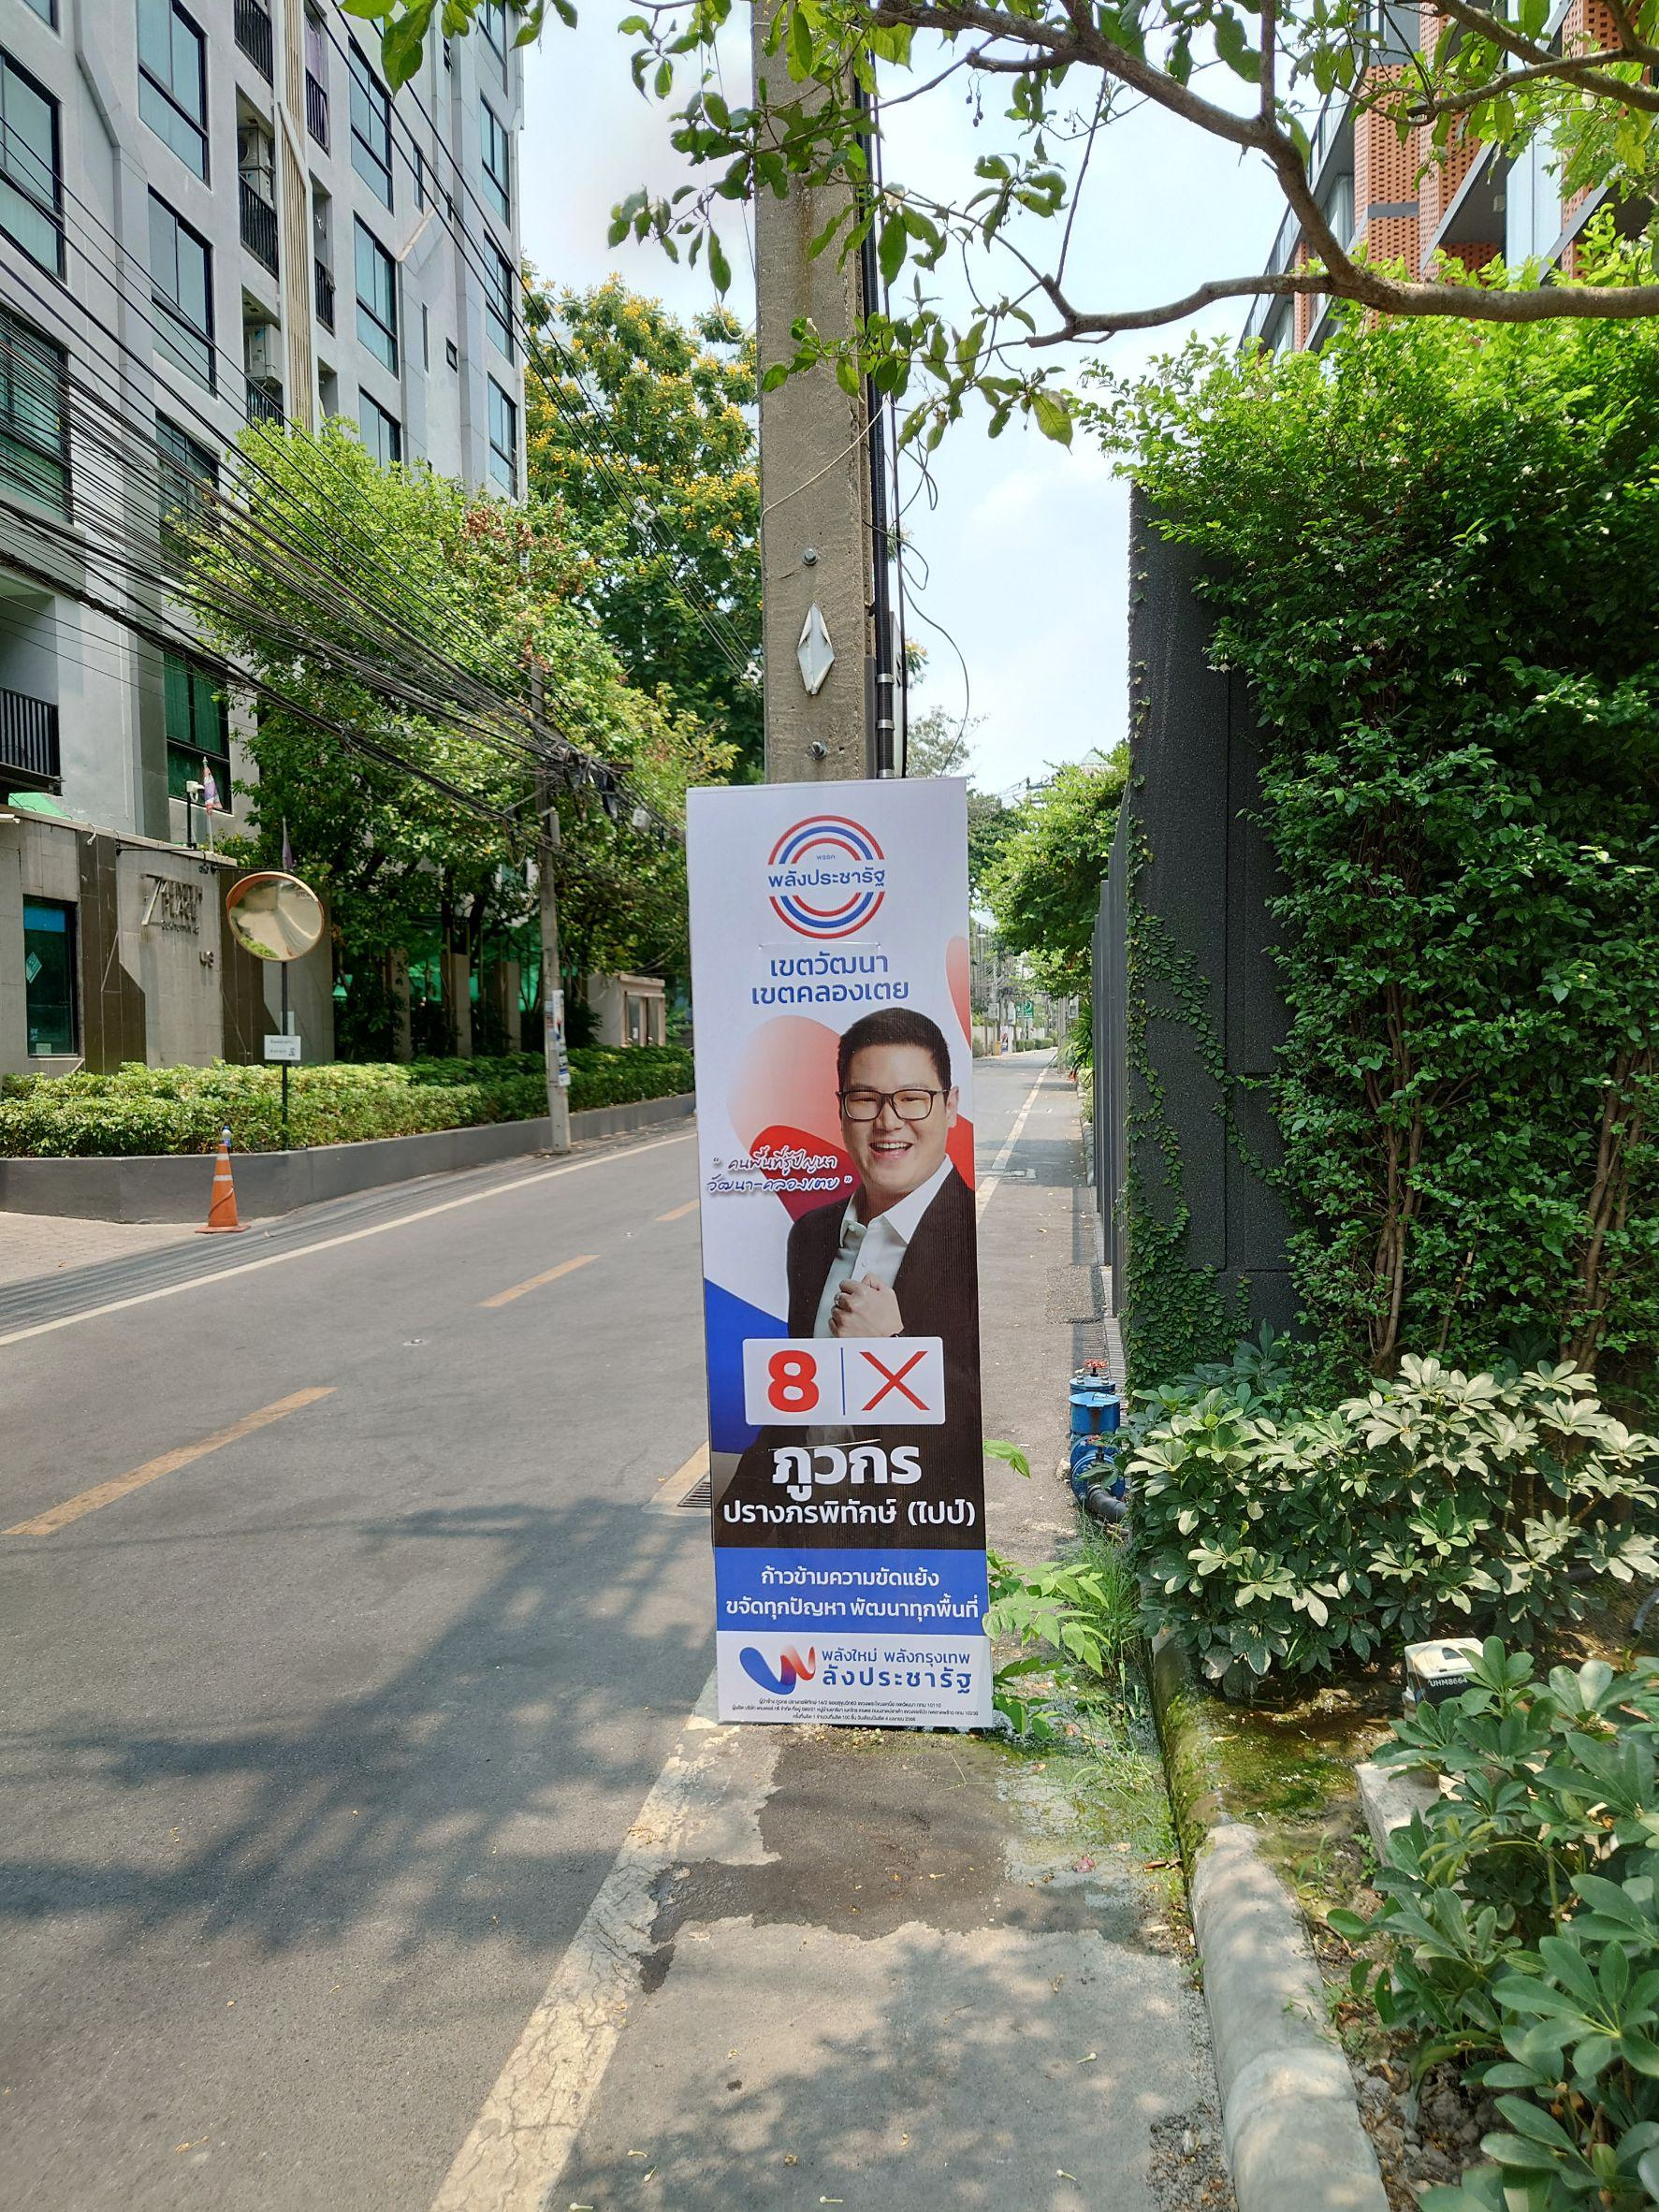Banner: (685, 754, 992, 1766)
